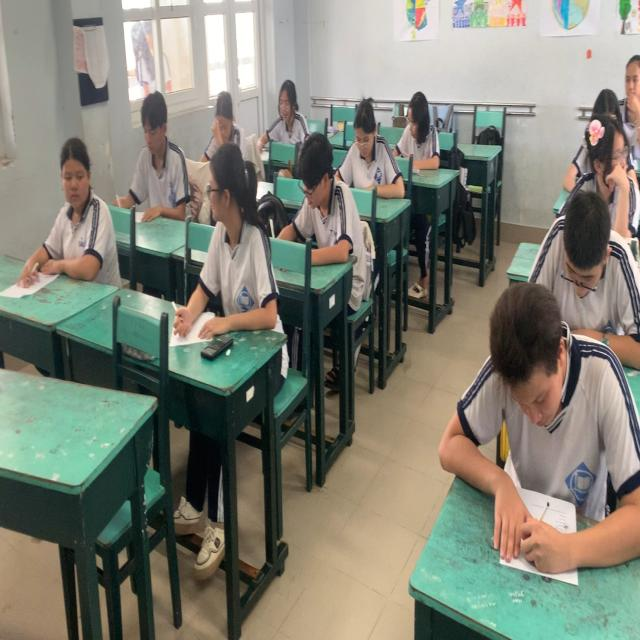cheating: (193, 144, 270, 348), (47, 133, 106, 290), (592, 120, 626, 216)
not_cheating: (446, 283, 578, 532), (131, 89, 195, 230), (286, 130, 354, 251), (553, 207, 613, 307), (351, 99, 394, 192), (275, 79, 312, 148), (212, 85, 245, 151), (405, 89, 440, 151)
